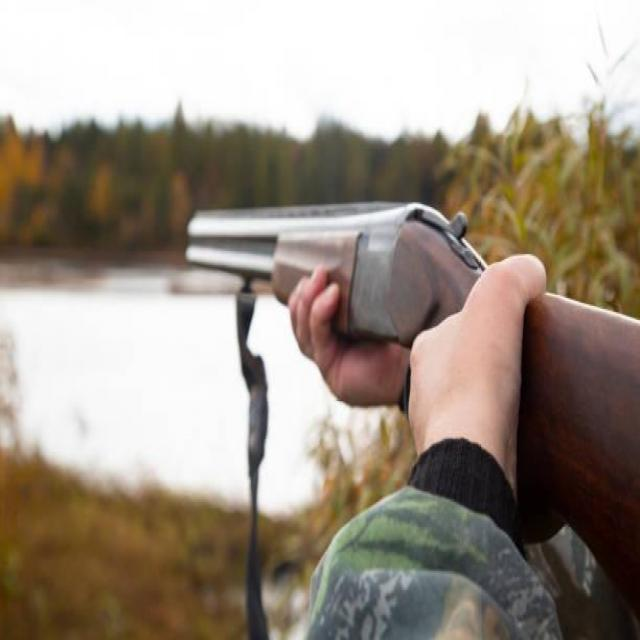weapon: (184, 202, 640, 602)
